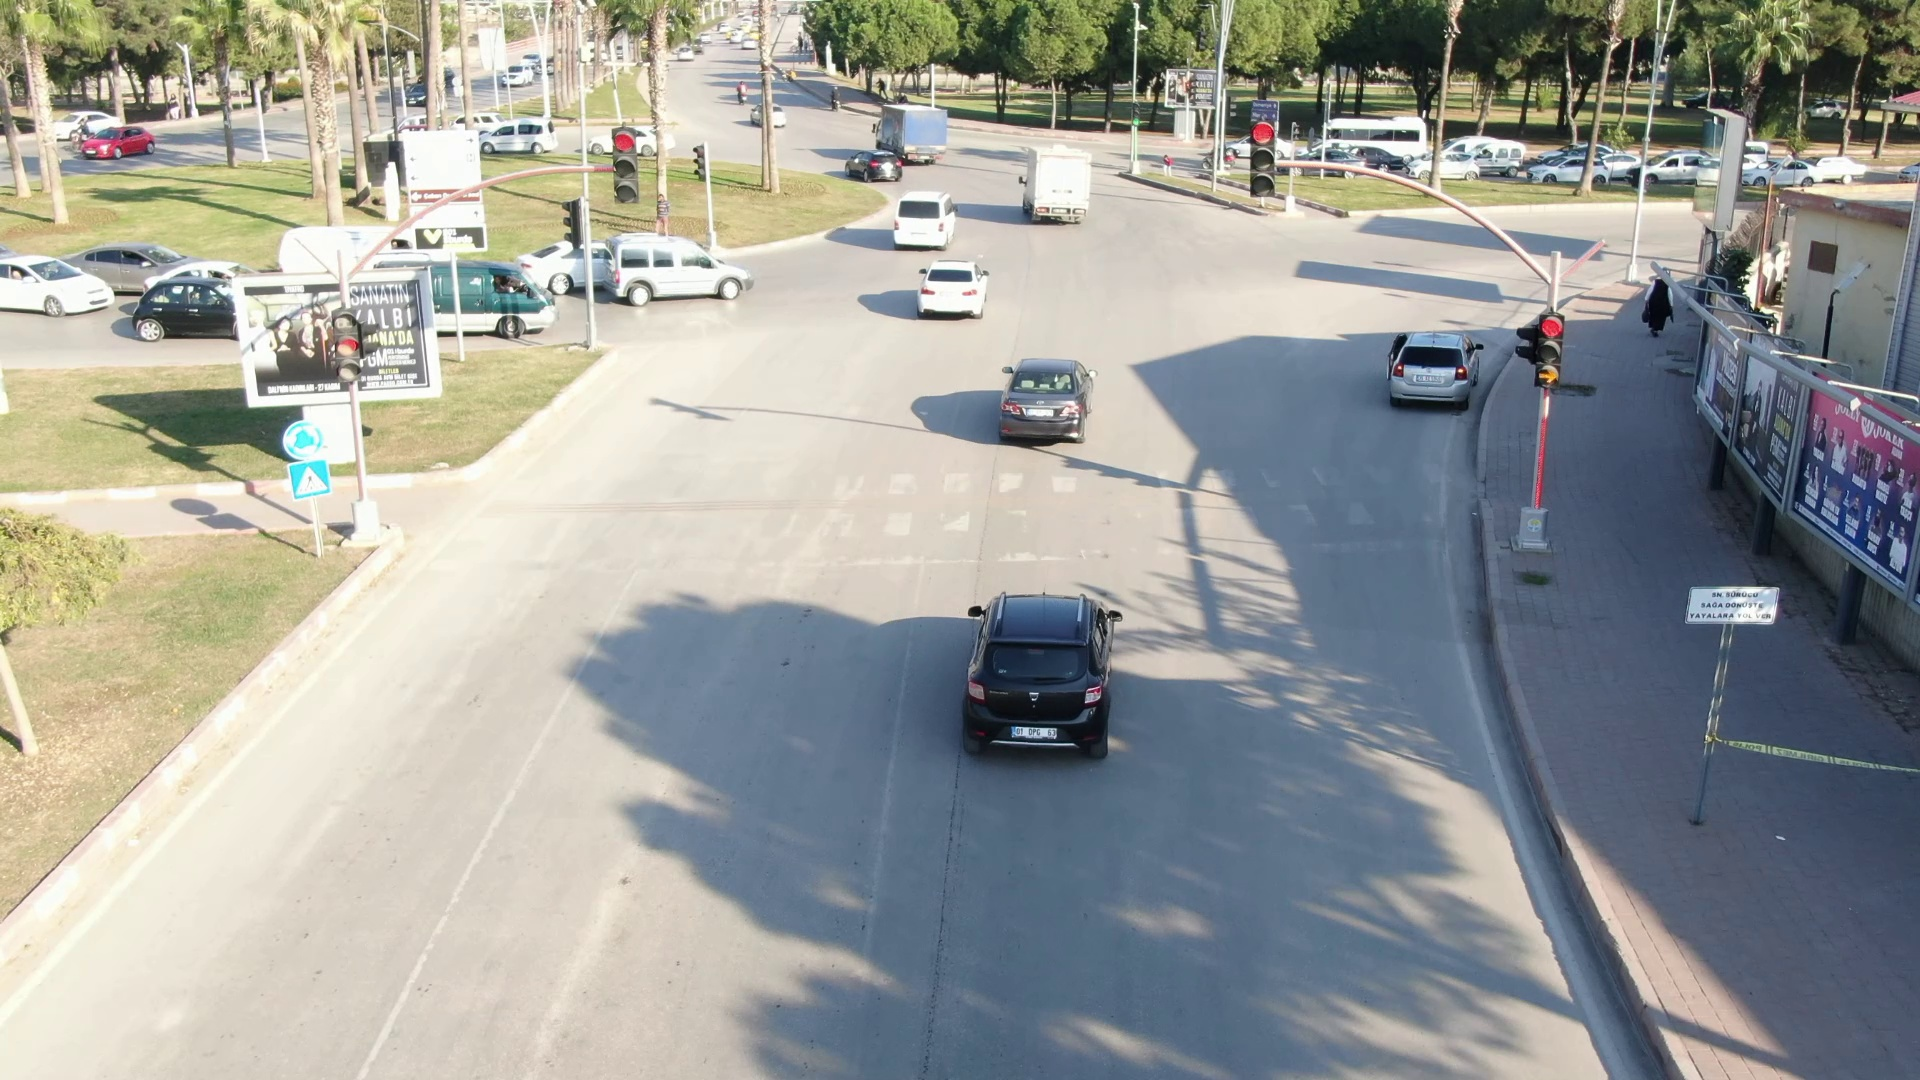car: (926, 569, 1147, 764), (984, 342, 1125, 448), (601, 226, 765, 313), (1380, 320, 1489, 415), (1009, 136, 1103, 238), (867, 93, 971, 177), (902, 251, 1005, 323), (887, 181, 948, 252), (833, 136, 911, 191)
person: (1631, 265, 1689, 343)
